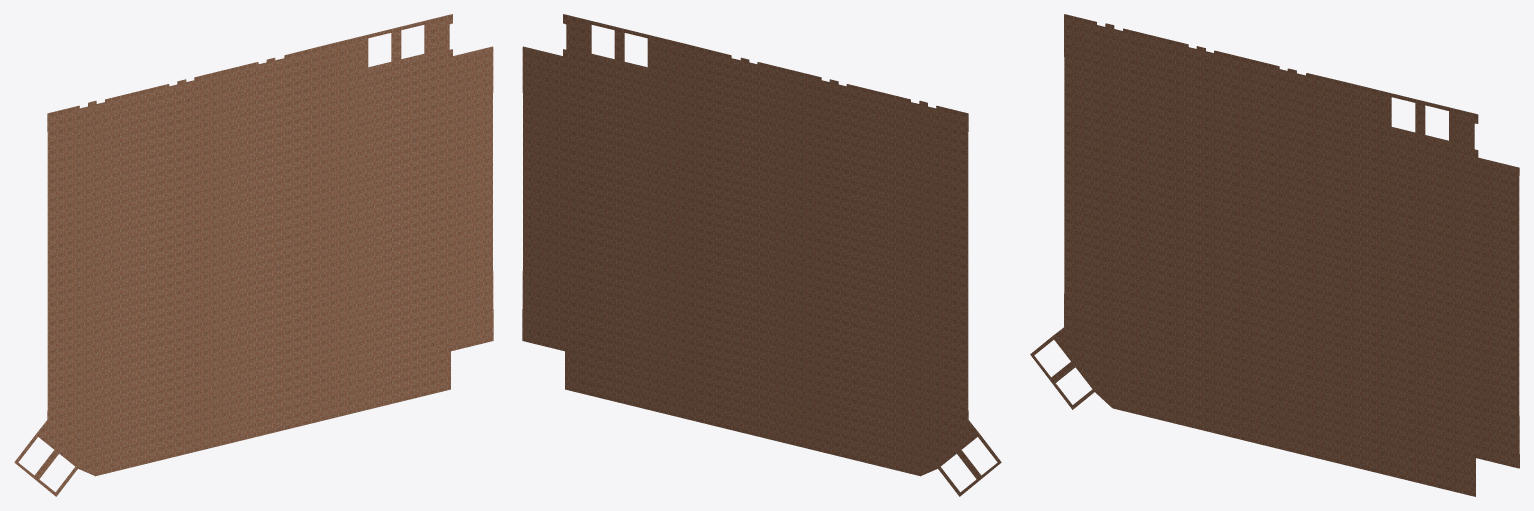
The model's file is floor_1.obj.
3 views of the same model, side by side, from view 1: azimuth 30°, elevation 25°; view 2: azimuth 150°, elevation 25°; view 3: azimuth 330°, elevation 25° (orthographic). The views are drawn at different scales.
Parts seen in each view (by area): view 1: floor_1; view 2: floor_1; view 3: floor_1.
Part boxes in pixels (bbox=[...]): floor_1: bbox=[14, 14, 493, 496]; floor_1: bbox=[522, 14, 1001, 496]; floor_1: bbox=[1030, 14, 1519, 496].
Bounding box in the file's own units: 52.8 × 40.67 × 0.1.
